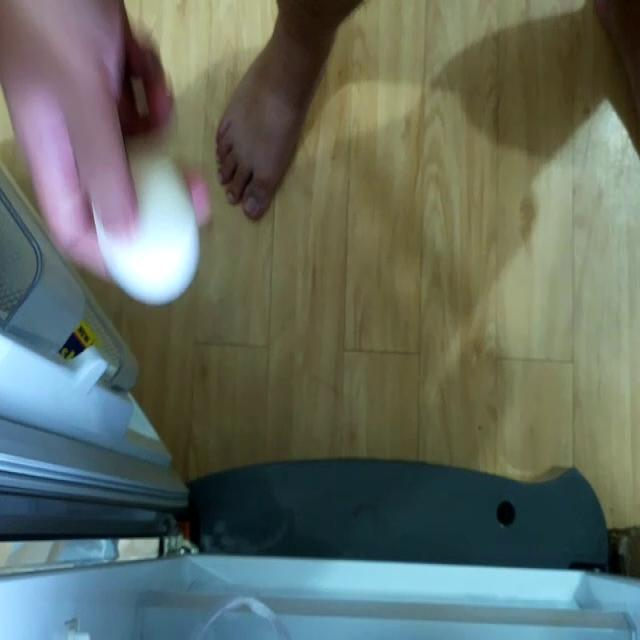egg: (98, 150, 198, 302)
